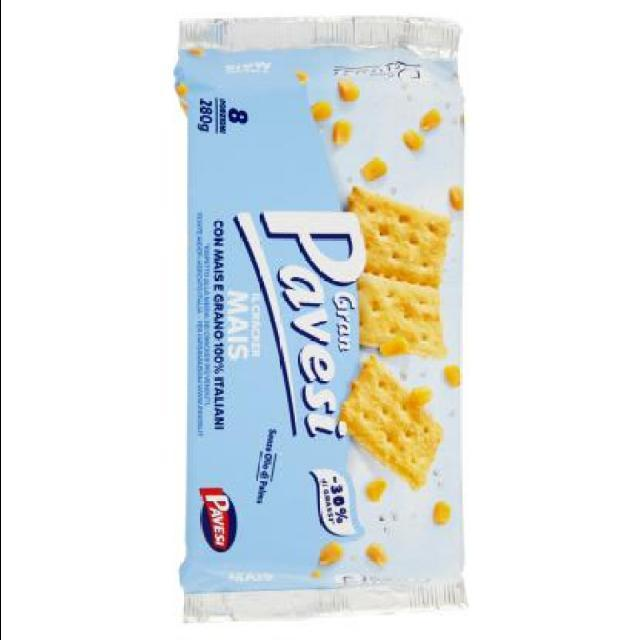Cracker: (172, 14, 479, 638)
